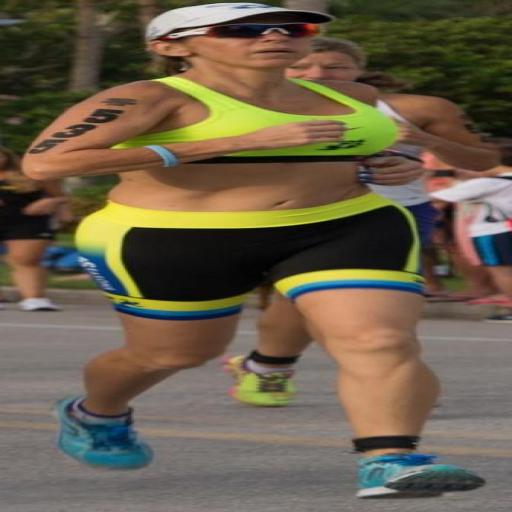person: (25, 3, 483, 497), (432, 146, 511, 307), (0, 148, 68, 311), (224, 294, 312, 406)
